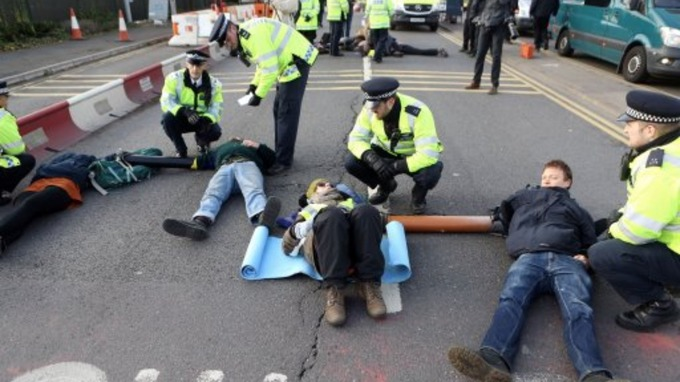fall: (264, 169, 411, 333)
